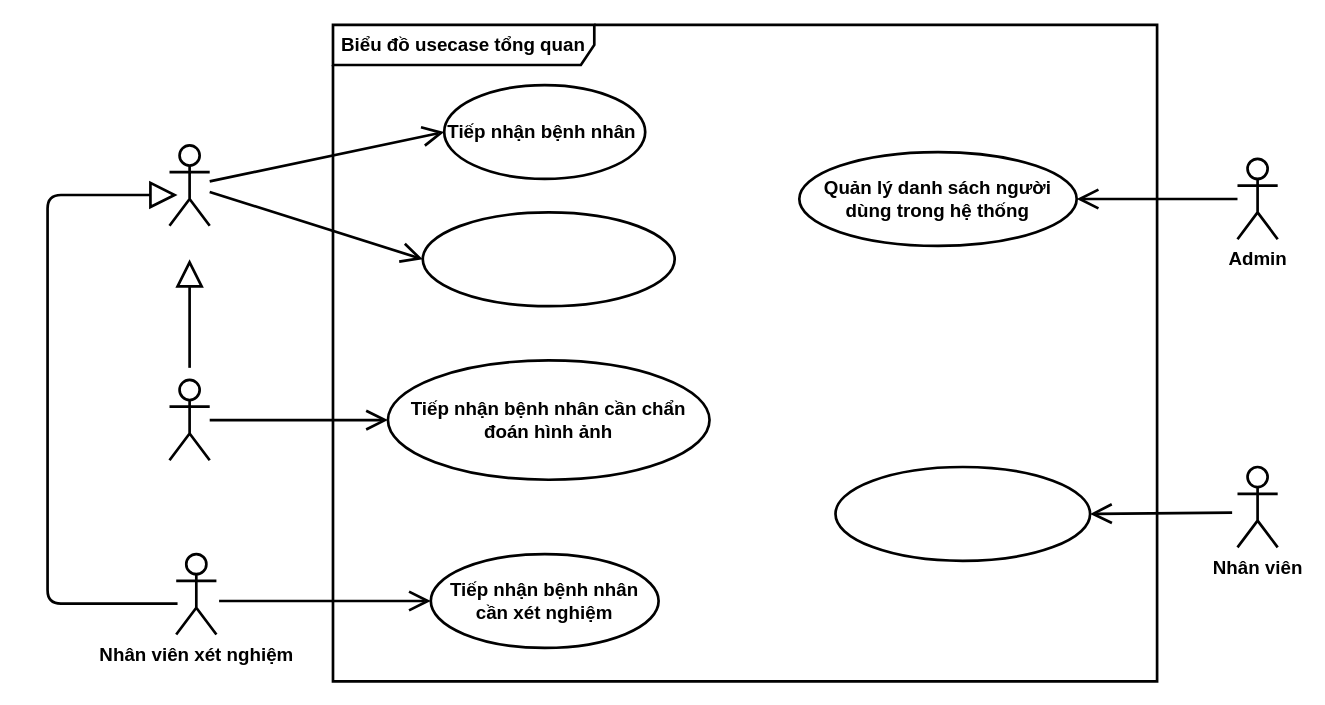
Image size: 1325x705. Some labels were removed from this diagram. The shapes that lost their labels are listed below. From the top down, each one's centre as x and y in pixels, then its label:
the point at 189,184: Bác sĩ
the point at 548,258: Tìm kiếm thông tin bệnh nhân
the point at 189,419: Nhân viên chẩn đoán hình ảnh
the point at 962,513: Quản lý danh sách bệnh nhân tiếp nhận
